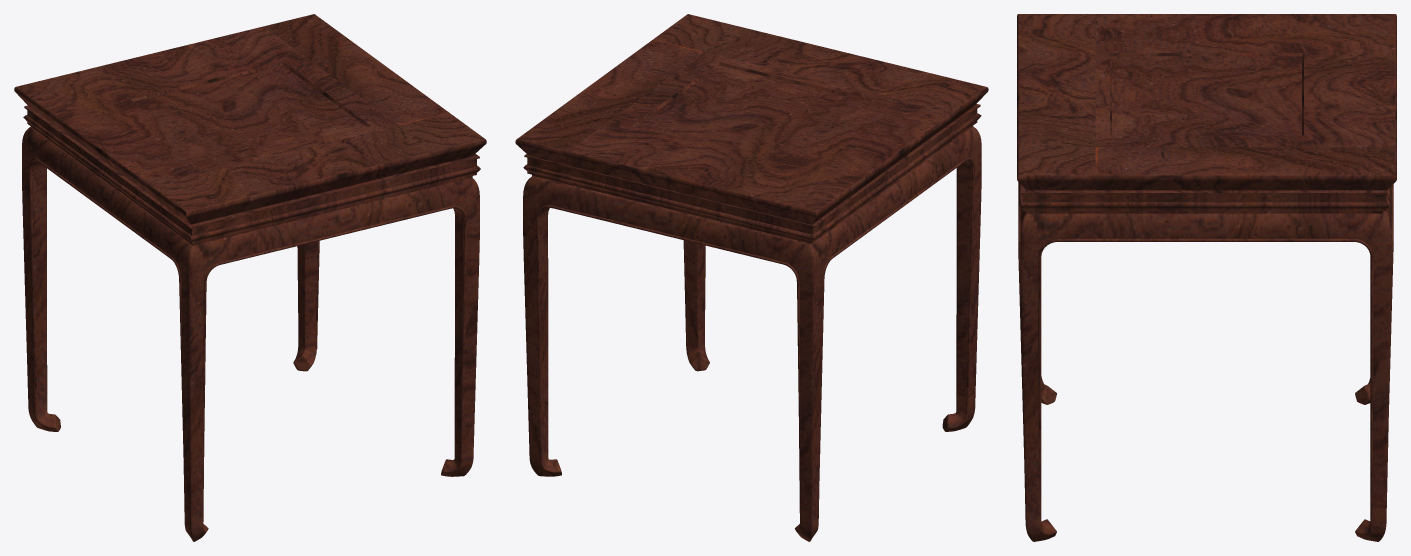
Rendered from Table.fbx.
3 renders of one model, left to right at view 1: azimuth 30°, elevation 25°; view 2: azimuth 150°, elevation 25°; view 3: azimuth 270°, elevation 25°, orthographic. The views are drawn at different scales.
Parts seen in each view (by area): view 1: Line06, Box03, Box06, Box05, Box07, Line02, Line04, Box04, Box01; view 2: Line06, Box03, Box06, Box05, Line03, Box07, Line04, Box04; view 3: Line06, Box03, Line05, Box06, Box05, Box07, Box04, Box01.
Boxes of the visible parts, box(x1,y1,x2,y2) form: Line06: box(14, 14, 486, 224); Box03: box(22, 126, 479, 541); Box06: box(27, 110, 476, 235); Box05: box(23, 115, 480, 242); Box07: box(24, 105, 479, 228); Line02: box(201, 205, 466, 530); Line04: box(28, 158, 185, 528); Box04: box(27, 122, 476, 244); Box01: box(189, 176, 472, 245); Line06: box(515, 14, 988, 224); Box03: box(523, 126, 981, 541); Box06: box(527, 109, 977, 234); Box05: box(523, 113, 981, 240); Line03: box(536, 205, 801, 529); Box07: box(524, 104, 980, 227); Line04: box(817, 157, 974, 527); Box04: box(527, 121, 977, 242); Line06: box(1017, 14, 1396, 190); Box03: box(1020, 186, 1391, 541); Line05: box(1038, 238, 1373, 530); Box06: box(1022, 194, 1386, 202); Box05: box(1019, 183, 1389, 209); Box07: box(1021, 185, 1387, 194); Box04: box(1022, 209, 1386, 211); Box01: box(1026, 211, 1382, 213).
Size of the model in its own units: 3139 by 3385 by 3107.
